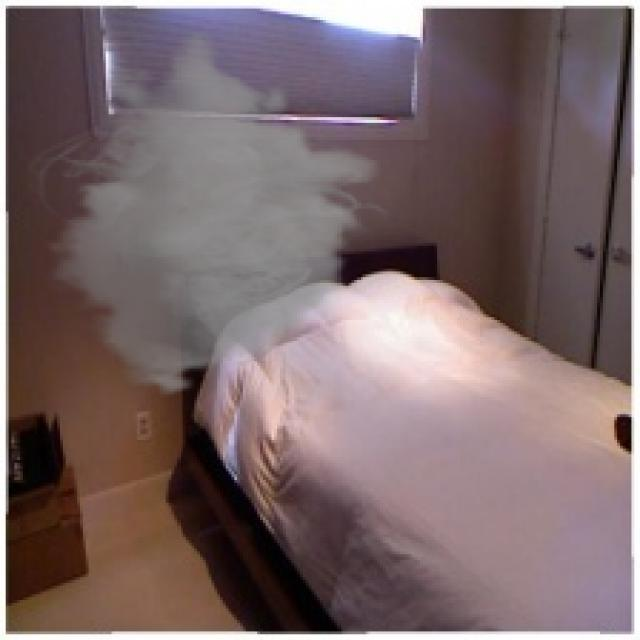Smoke: (19, 29, 394, 398)
